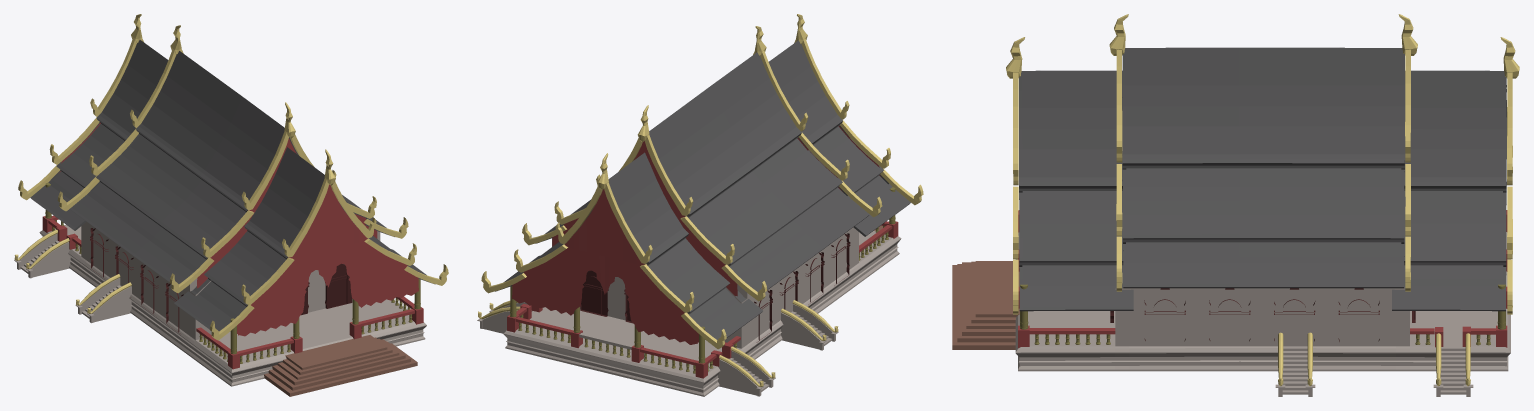
File: Temple.fbx
3 views of the same model, side by side, from view 1: azimuth 30°, elevation 25°; view 2: azimuth 150°, elevation 25°; view 3: azimuth 270°, elevation 25° (orthographic). The views are drawn at different scales.
Parts seen in each view (by area): view 1: Window; view 2: Window; view 3: Window.
Part boxes in pixels (left/top/right/bottom): Window: left=14, top=14, right=448, bottom=396; Window: left=477, top=14, right=923, bottom=396; Window: left=952, top=14, right=1519, bottom=396.
Bounding box in the file's own units: 429 × 340 × 588.
